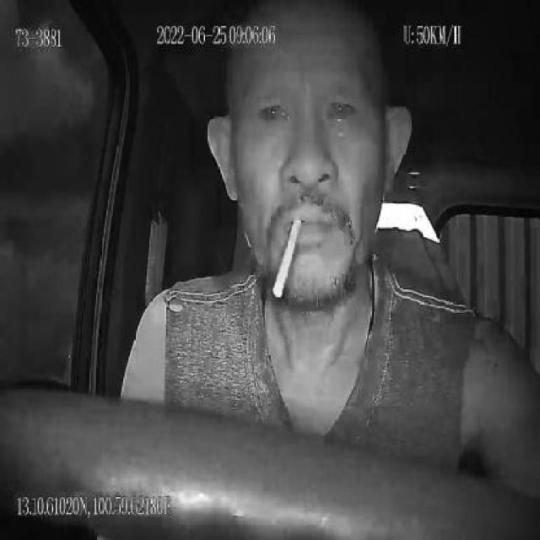smoking: (271, 212, 300, 298)
